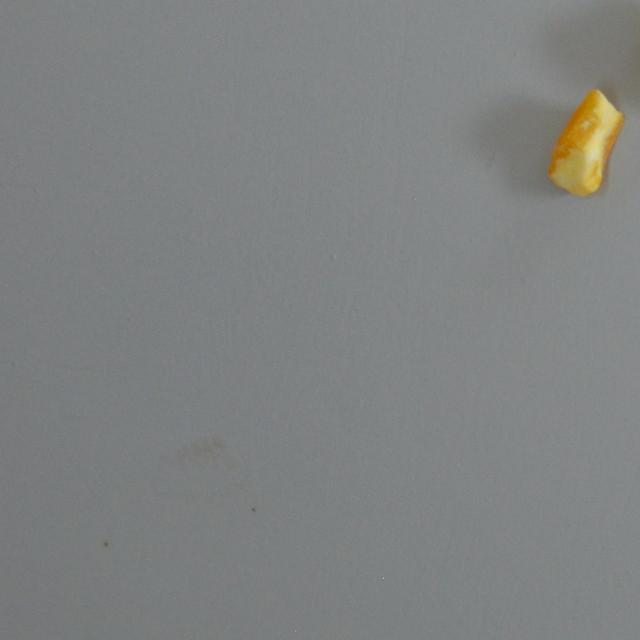pelicula: (546, 86, 624, 197)
